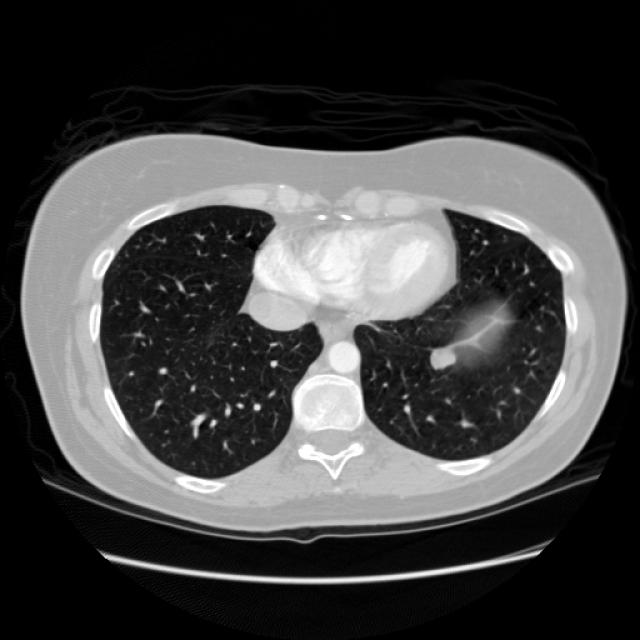nodule: (415, 332, 465, 382)
